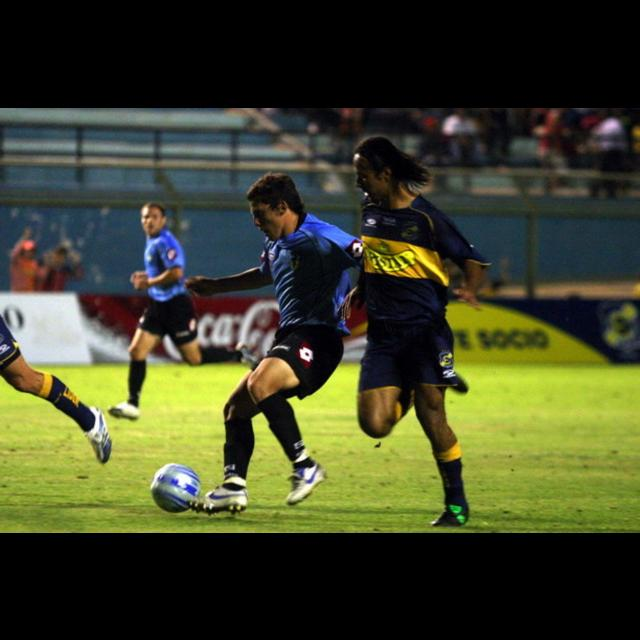Football: (148, 461, 202, 514)
